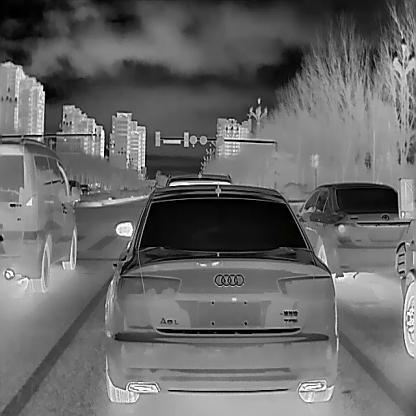car: (103, 181, 339, 403), (0, 133, 81, 294), (295, 179, 410, 283), (78, 182, 90, 195)
